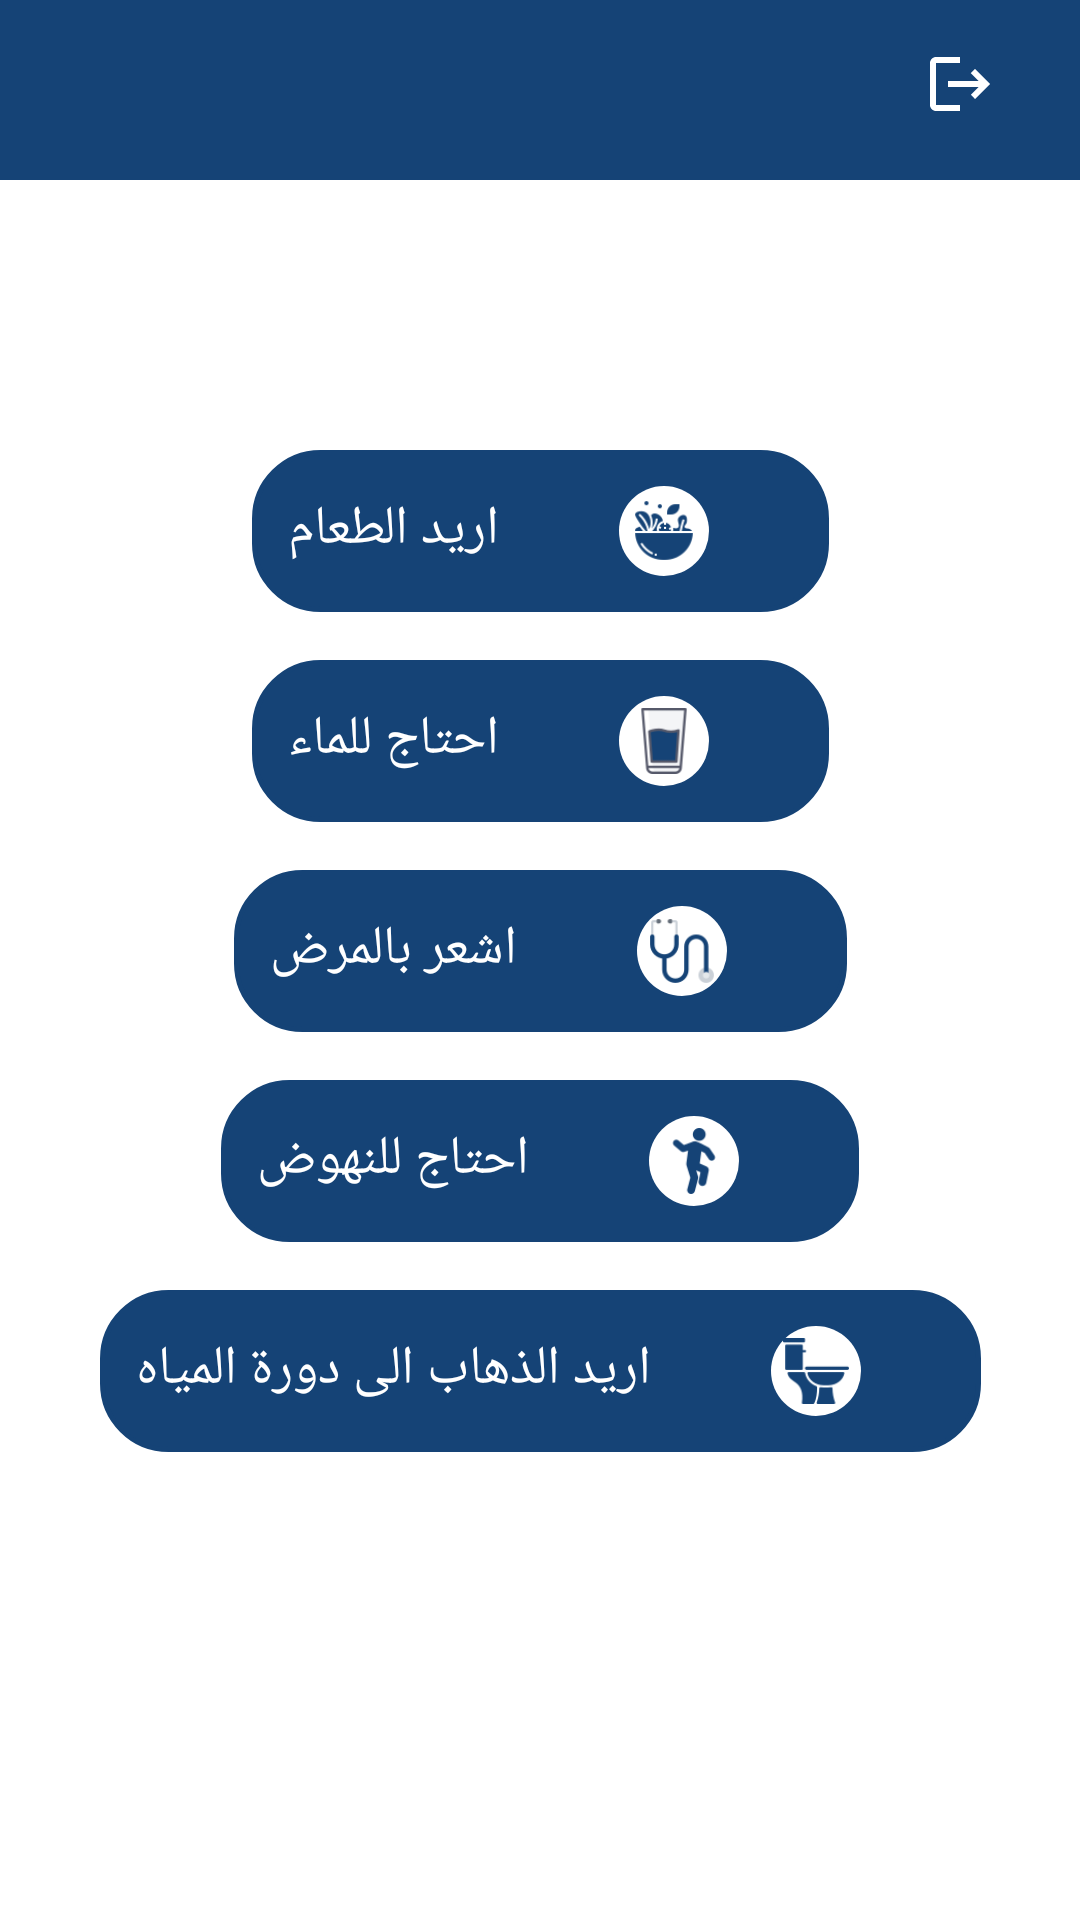

Named icons in this screenshot (1080x1920) and their bounding boxes, (x1, y1, x2, y2):
food: (619, 486, 709, 576)
man: (649, 1116, 739, 1206)
stethoscope: (637, 906, 727, 996)
toilet: (771, 1326, 861, 1416)
water: (619, 696, 709, 786)
